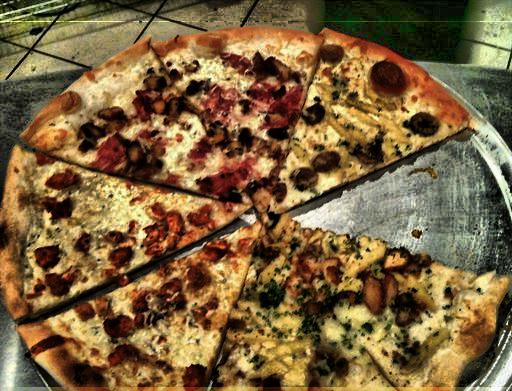pizza: (3, 24, 483, 391)
